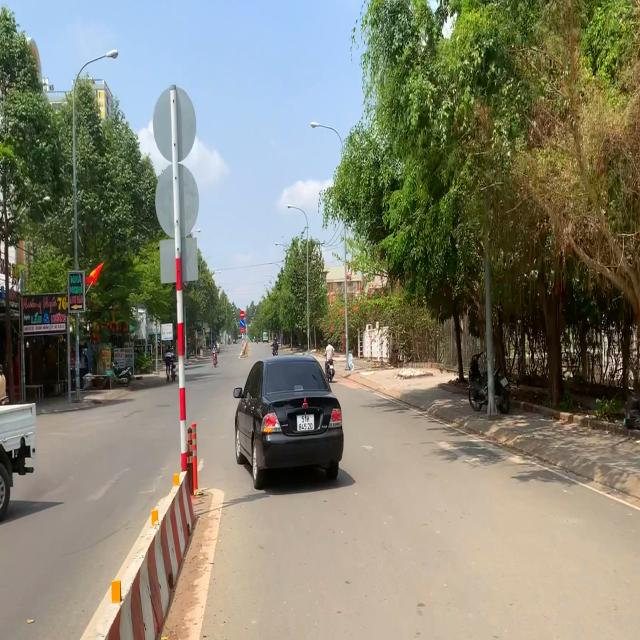Cam nguoc chieu: (240, 310, 244, 319)
Hieu lenh: (240, 318, 245, 327)
